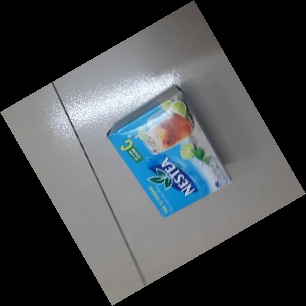Nestea: (106, 83, 232, 217)
